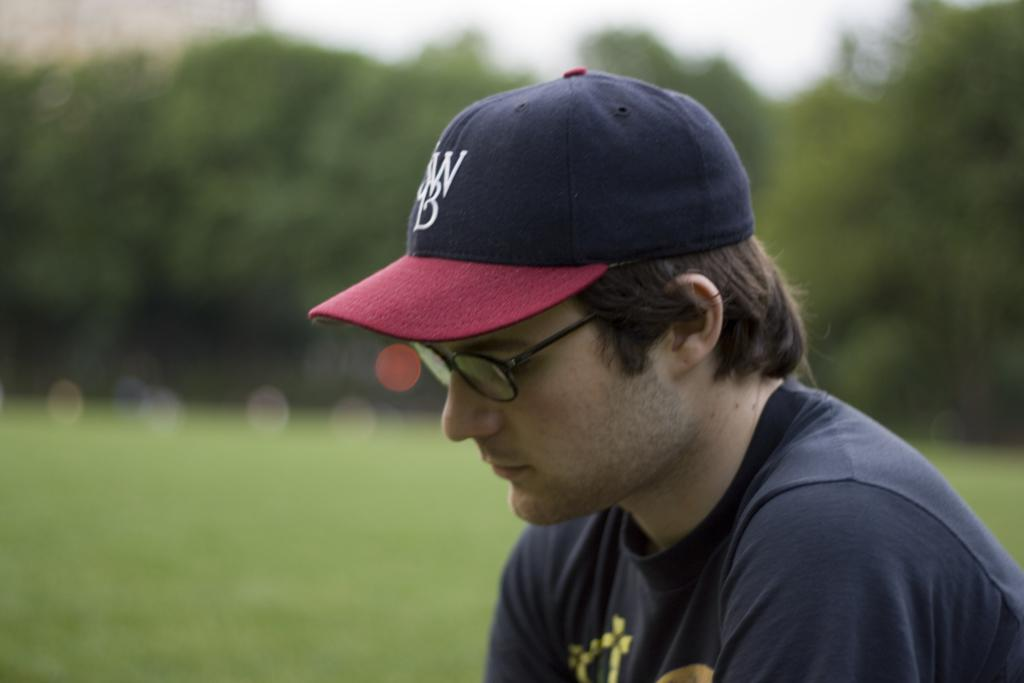Hat: (303, 63, 759, 342)
